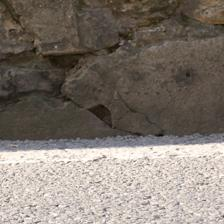Crack: (11, 38, 125, 125), (47, 0, 109, 98), (18, 5, 52, 35), (51, 45, 88, 62)
